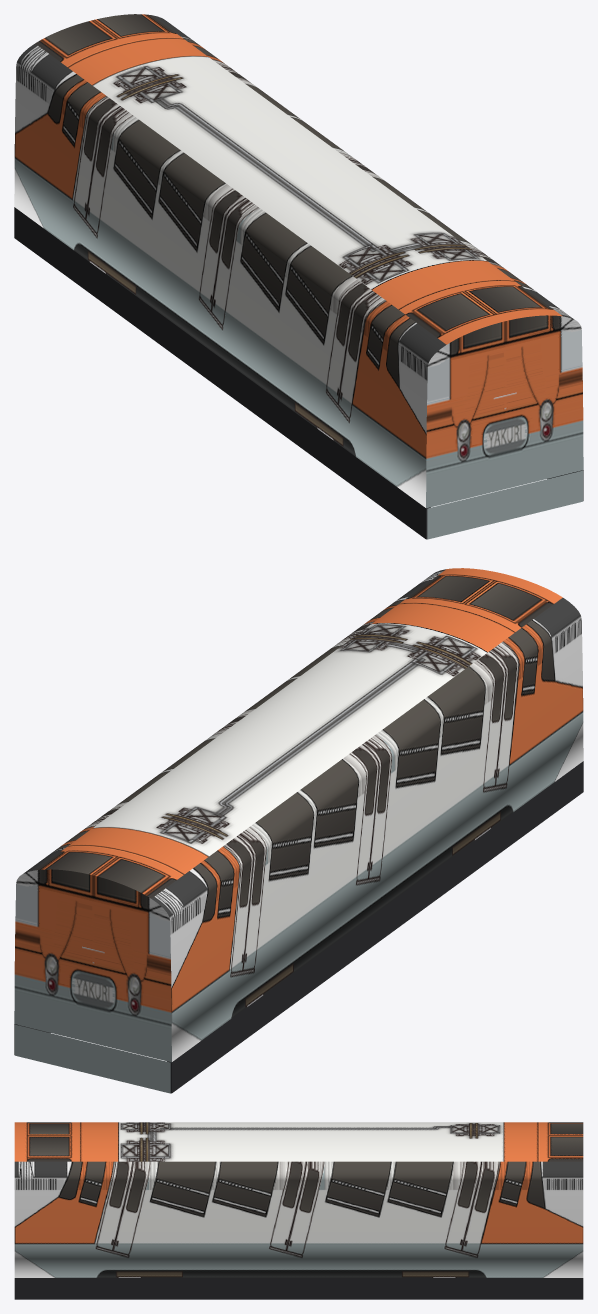
Rendered from car1.glb.
3 renders of one model, top to bottom at view 1: azimuth 30°, elevation 25°; view 2: azimuth 150°, elevation 25°; view 3: azimuth 270°, elevation 25°, orthographic. The views are drawn at different scales.
Visible parts, largest first — view 1: yakuri-ko1; view 2: yakuri-ko1; view 3: yakuri-ko1.
Part boxes in pixels (x1,y1,x2,y2): yakuri-ko1: (14,14,583,539); yakuri-ko1: (14,568,583,1093); yakuri-ko1: (14,1122,583,1299).
Size of the model in its own units: 2.65 by 3.2 by 12.03.
8 materials, 7 textured.
